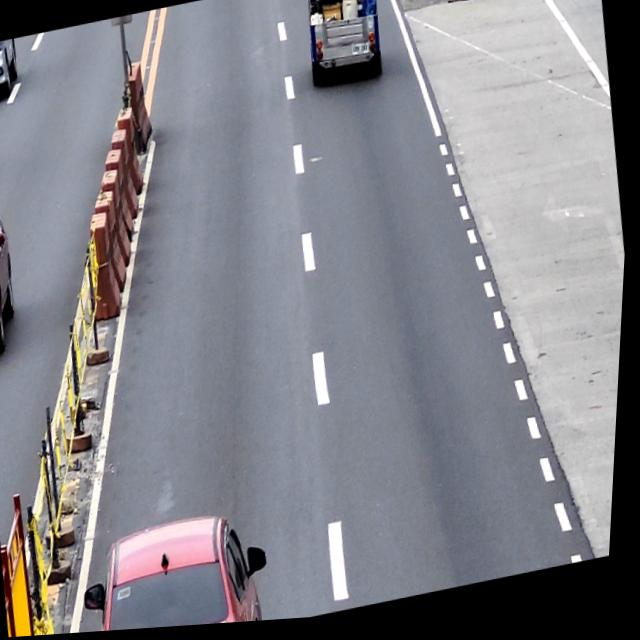Car: (80, 506, 285, 634), (299, 0, 391, 96)
License-Plate: (351, 47, 372, 62)
